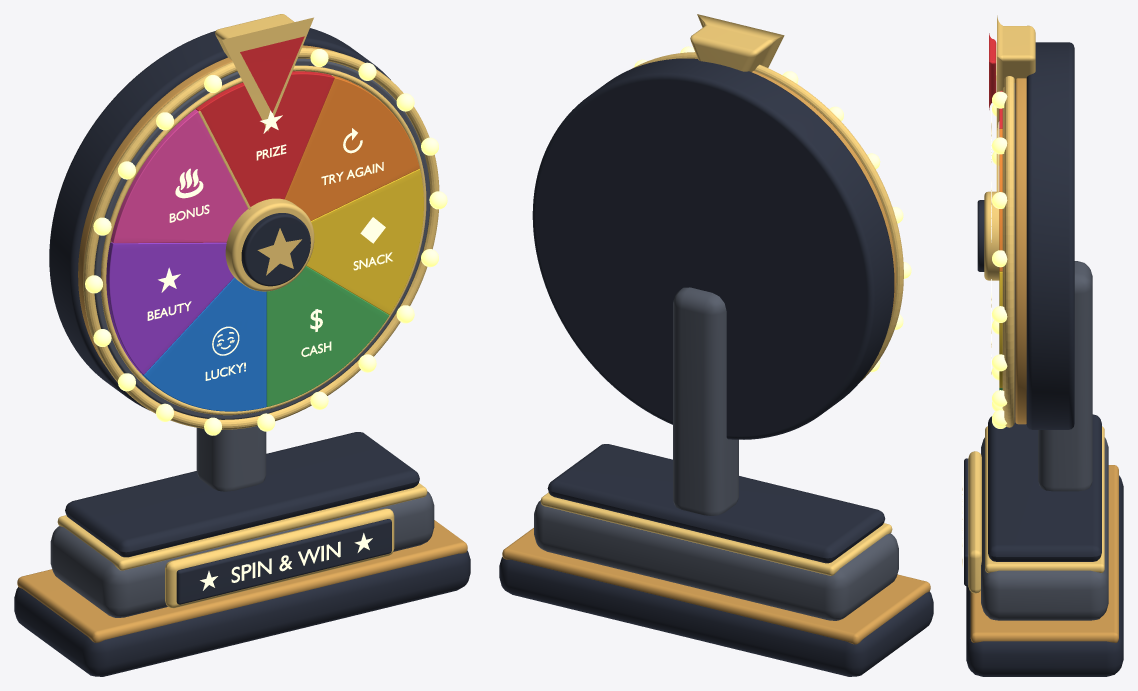
Rendered from prize-wheel.glb.
The picture shows the model from 3 angles, left to right: view 1: azimuth 30°, elevation 25°; view 2: azimuth 150°, elevation 25°; view 3: azimuth 270°, elevation 25°; orthographic projection. The views are drawn at different scales.
Visible parts, largest first — view 1: Pedestal cap, Foot | lower plinth, Rear wheel housing, Prize sector 06, Prize sector 07, Prize sector 02, Prize sector 05, Prize sector 04, Prize sector 03, Prize sector 01, Brass base trim, Outer bright rim (+14 smaller); view 2: Rear wheel housing, Main pedestal, Pedestal cap, Foot | lower plinth, Central support, Brass base trim, Upper brass reveal, Pointer gold housing, Outer bright rim, Outer brass rim; view 3: Rear wheel housing, Pedestal cap, Main pedestal, Foot | lower plinth, Central support, Brass base trim, Outer brass rim, Outer bright rim, Pointer gold housing, Upper brass reveal, Plaque brass surround, Center gold bezel (+7 smaller).
Part boxes in pixels (x1,y1,x2,y2): Pedestal cap: [65, 432, 419, 557]; Foot | lower plinth: [14, 550, 470, 676]; Rear wheel housing: [49, 28, 390, 410]; Prize sector 06: [106, 242, 234, 374]; Prize sector 07: [110, 109, 247, 243]; Prize sector 02: [284, 75, 419, 220]; Prize sector 05: [141, 277, 266, 411]; Prize sector 04: [266, 266, 389, 406]; Prize sector 03: [306, 168, 423, 314]; Prize sector 01: [196, 71, 334, 206]; Brass base trim: [17, 520, 467, 642]; Outer bright rim: [83, 47, 439, 429]; Rear wheel housing: [532, 58, 894, 439]; Main pedestal: [534, 500, 898, 620]; Pedestal cap: [547, 444, 885, 563]; Foot | lower plinth: [499, 557, 933, 676]; Central support: [673, 287, 738, 515]; Brass base trim: [502, 528, 930, 644]; Upper brass reveal: [540, 492, 892, 575]; Pointer gold housing: [690, 14, 784, 71]; Outer bright rim: [632, 52, 903, 381]; Outer brass rim: [695, 58, 896, 321]; Rear wheel housing: [1026, 42, 1074, 429]; Pedestal cap: [988, 414, 1101, 561]; Main pedestal: [981, 437, 1108, 620]; Foot | lower plinth: [966, 475, 1123, 676]; Central support: [1038, 261, 1092, 491]; Brass base trim: [970, 465, 1118, 642]; Outer brass rim: [1015, 78, 1026, 424]; Outer bright rim: [1004, 76, 1014, 427]; Pointer gold housing: [997, 15, 1035, 129]; Upper brass reveal: [985, 426, 1104, 572]; Plaque brass surround: [968, 451, 981, 593]; Center gold bezel: [984, 191, 999, 280].
Bounding box in the file's own units: 3.65 × 5.41 × 1.41.
